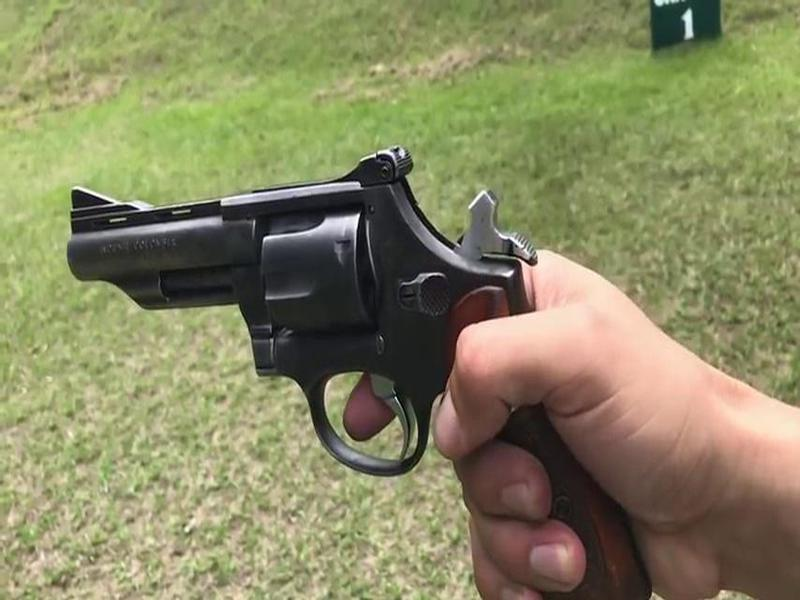Revolver: (57, 149, 601, 481)
